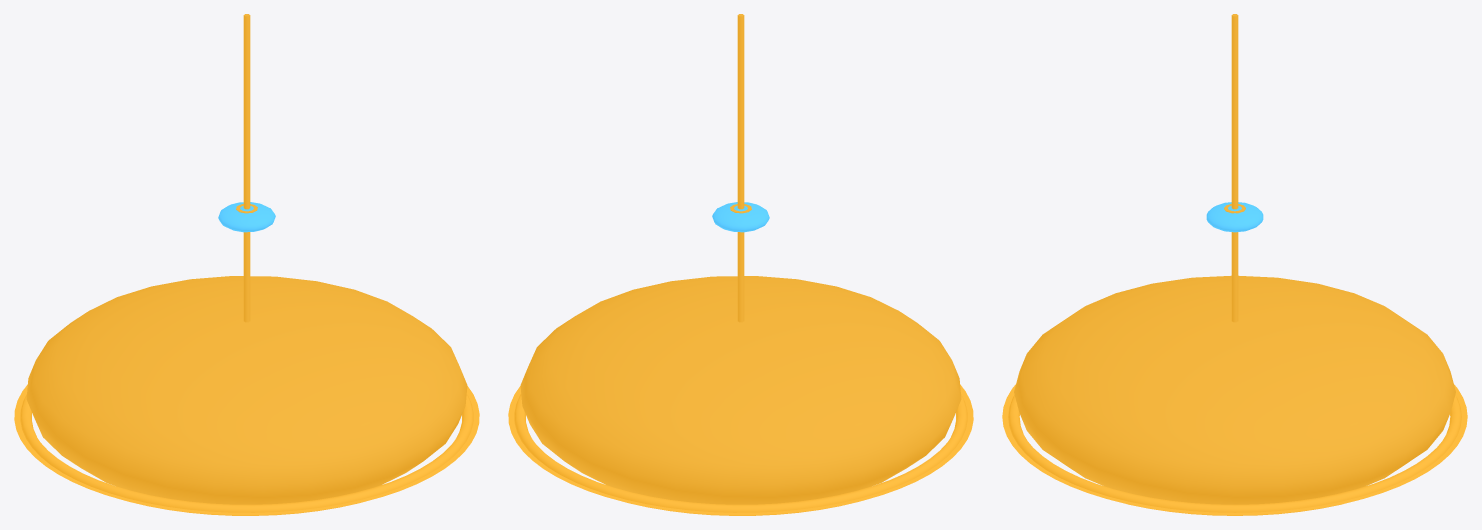
Rendered from nova_shockwave.glb.
3 renders of one model, left to right at view 1: azimuth 30°, elevation 25°; view 2: azimuth 150°, elevation 25°; view 3: azimuth 270°, elevation 25°, orthographic.
Visible parts, largest first — view 1: Dome, Wave, NovaShockwave, Core; view 2: Dome, Wave, NovaShockwave, Core; view 3: Dome, Wave, NovaShockwave, Core.
Part boxes in pixels (x1,y1,x2,y2): Dome: (26,276,467,504); Wave: (14,384,479,515); NovaShockwave: (243,14,250,322); Core: (218,202,275,232); Dome: (520,276,961,504); Wave: (508,384,973,515); NovaShockwave: (737,14,744,322); Core: (712,202,769,232); Dome: (1014,275,1455,504); Wave: (1002,384,1467,515); NovaShockwave: (1231,14,1238,322); Core: (1206,202,1263,232).
Bounding box in the file's own units: 3.51 × 3.73 × 3.51.
